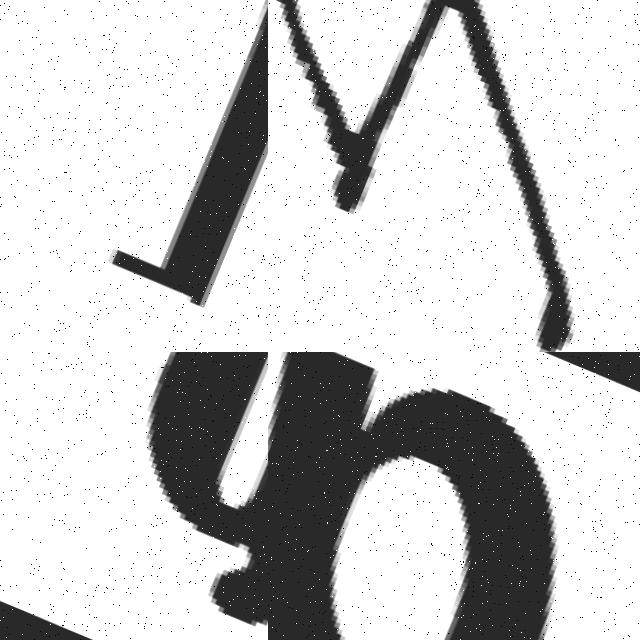B: (268, 352, 562, 640)
G: (62, 352, 268, 640)
J: (14, 0, 268, 352)
W: (268, 0, 640, 342)
